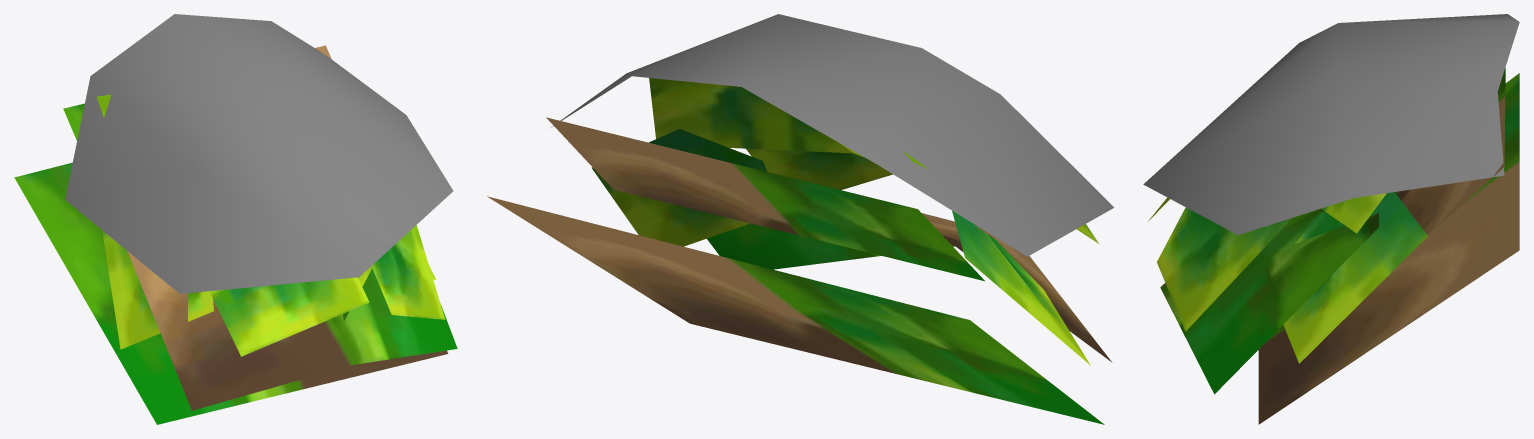
File: fg_bushB_2_s.dae
3 views of the same model, side by side, from view 1: azimuth 30°, elevation 25°; view 2: azimuth 150°, elevation 25°; view 3: azimuth 270°, elevation 25° (orthographic). The views are drawn at different scales.
Visible parts, largest first — view 1: fg_bushB_2_s; view 2: fg_bushB_2_s; view 3: fg_bushB_2_s.
Boxes of the visible parts, x1,y1,x2,y2 form: fg_bushB_2_s: (14,14,457,424); fg_bushB_2_s: (487,14,1114,424); fg_bushB_2_s: (1143,14,1519,424).
Size of the model in its own units: 43.24 by 35.41 by 37.79.
1 material, 1 textured.
